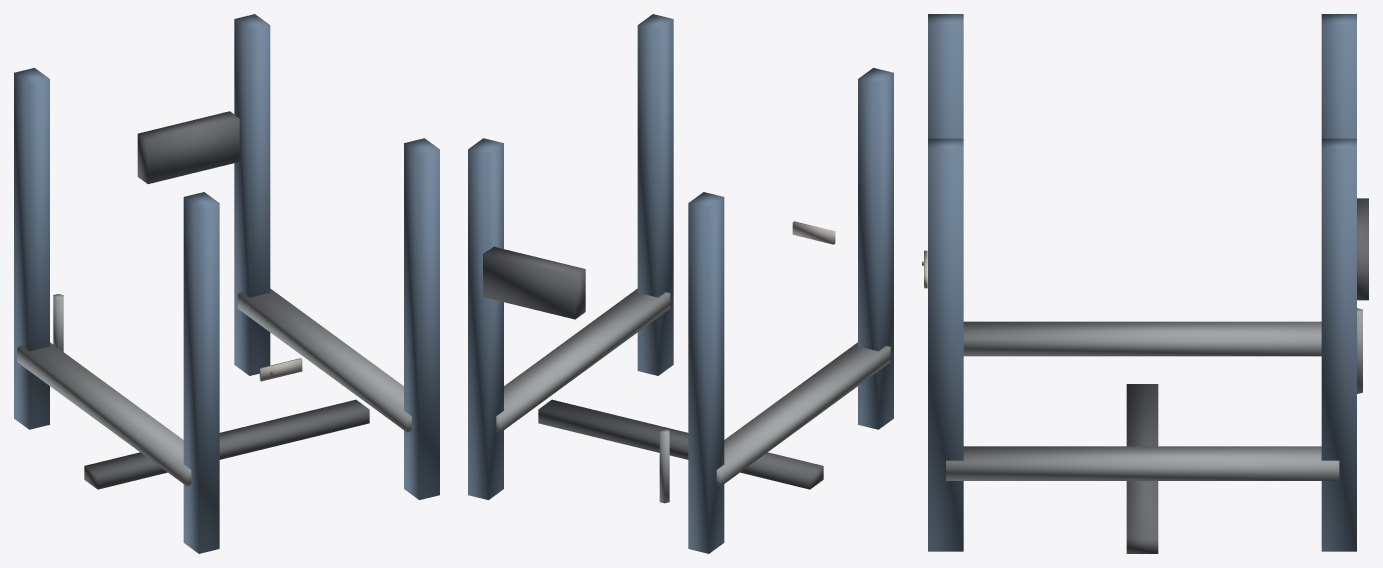
Rendered from four_post_car_lift__service.glb.
3 renders of one model, left to right at view 1: azimuth 30°, elevation 25°; view 2: azimuth 150°, elevation 25°; view 3: azimuth 270°, elevation 25°, orthographic. The views are drawn at different scales.
Parts seen in each view (by area): view 1: world; view 2: world; view 3: world.
Boxes of the visible parts, x1=… form: world: x1=14, y1=14, x2=439, y2=553; world: x1=468, y1=14, x2=893, y2=553; world: x1=922, y1=14, x2=1368, y2=553.
Bounding box in the file's own units: 1.85 × 2.25 × 2.27.
